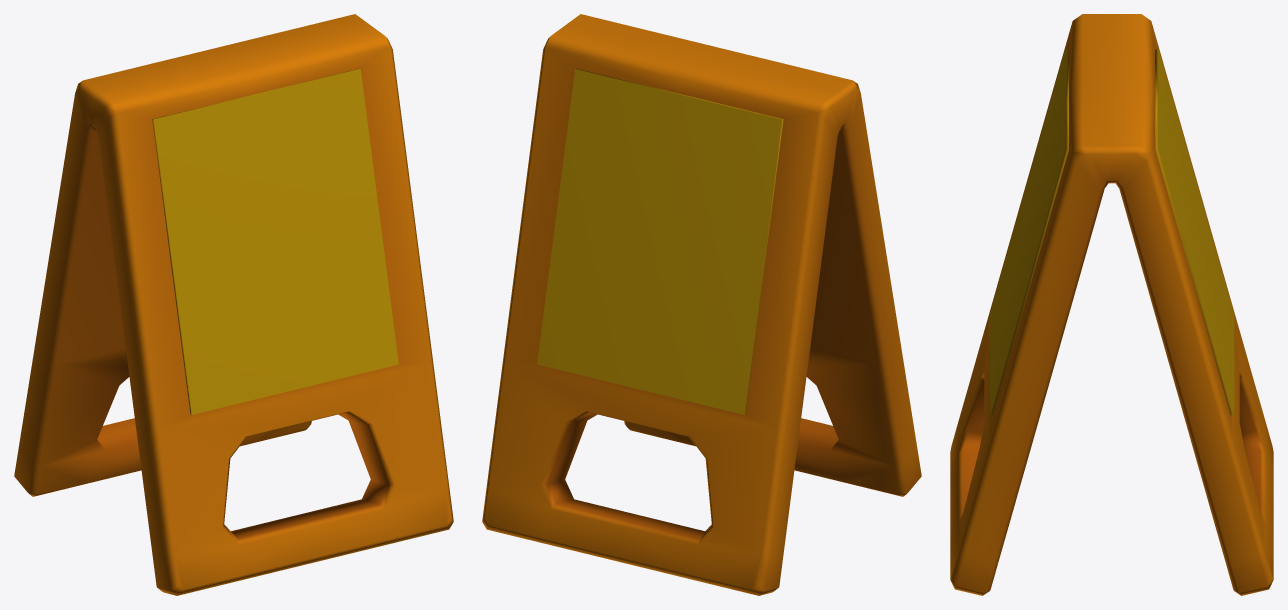
The model's file is CJ_CautionSign_SM.fbx.
The picture shows the model from 3 angles, left to right: view 1: azimuth 30°, elevation 25°; view 2: azimuth 150°, elevation 25°; view 3: azimuth 270°, elevation 25°; orthographic projection.
Parts seen in each view (by area): view 1: CJ_CautionSign_SM; view 2: CJ_CautionSign_SM; view 3: CJ_CautionSign_SM.
Part boxes in pixels (<box>): CJ_CautionSign_SM: <box>14,14,453,595</box>; CJ_CautionSign_SM: <box>482,14,921,595</box>; CJ_CautionSign_SM: <box>950,14,1273,595</box>.
Size of the model in its own units: 44.66 by 68.32 by 44.51.
